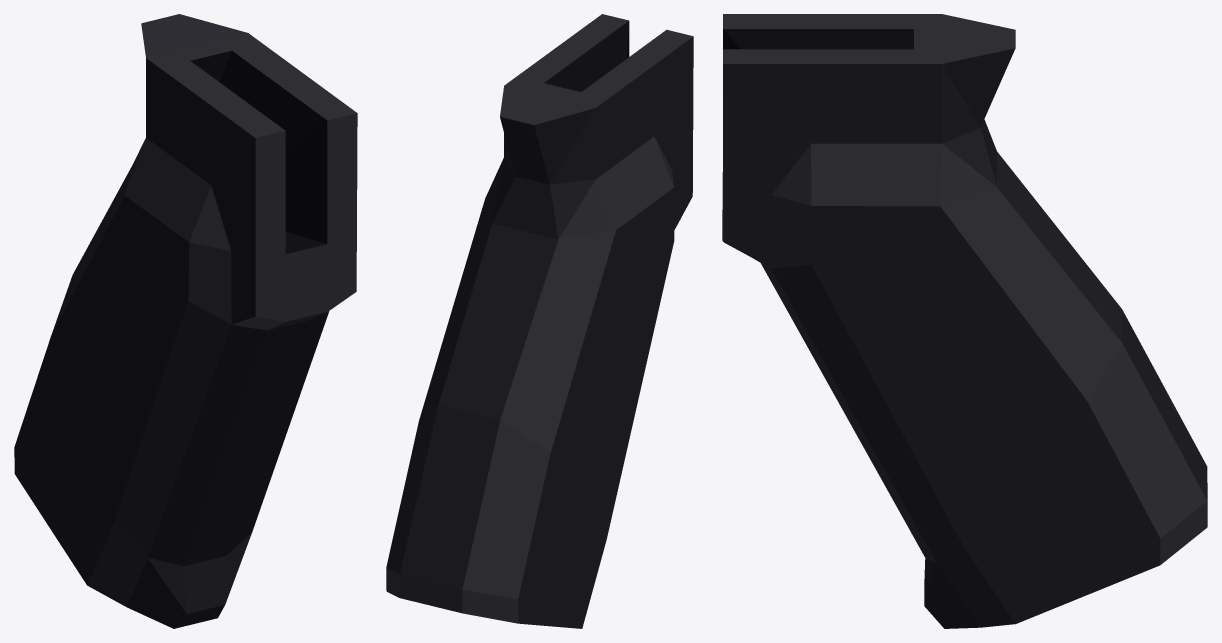
The model's file is MW1_Handle_01.fbx.
3 views of the same model, side by side, from view 1: azimuth 30°, elevation 25°; view 2: azimuth 150°, elevation 25°; view 3: azimuth 270°, elevation 25° (orthographic). The views are drawn at different scales.
Parts seen in each view (by area): view 1: Handle_01; view 2: Handle_01; view 3: Handle_01.
Boxes of the visible parts, bbox=[...] form: Handle_01: bbox=[14, 14, 357, 628]; Handle_01: bbox=[386, 14, 693, 628]; Handle_01: bbox=[722, 14, 1207, 628].
Bounding box in the file's own units: 3.28 × 12.28 × 9.32.
